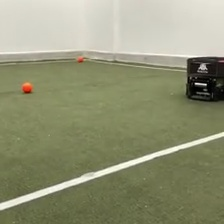ball: (21, 81, 33, 93), (76, 54, 85, 63)
robot: (183, 54, 224, 103)
